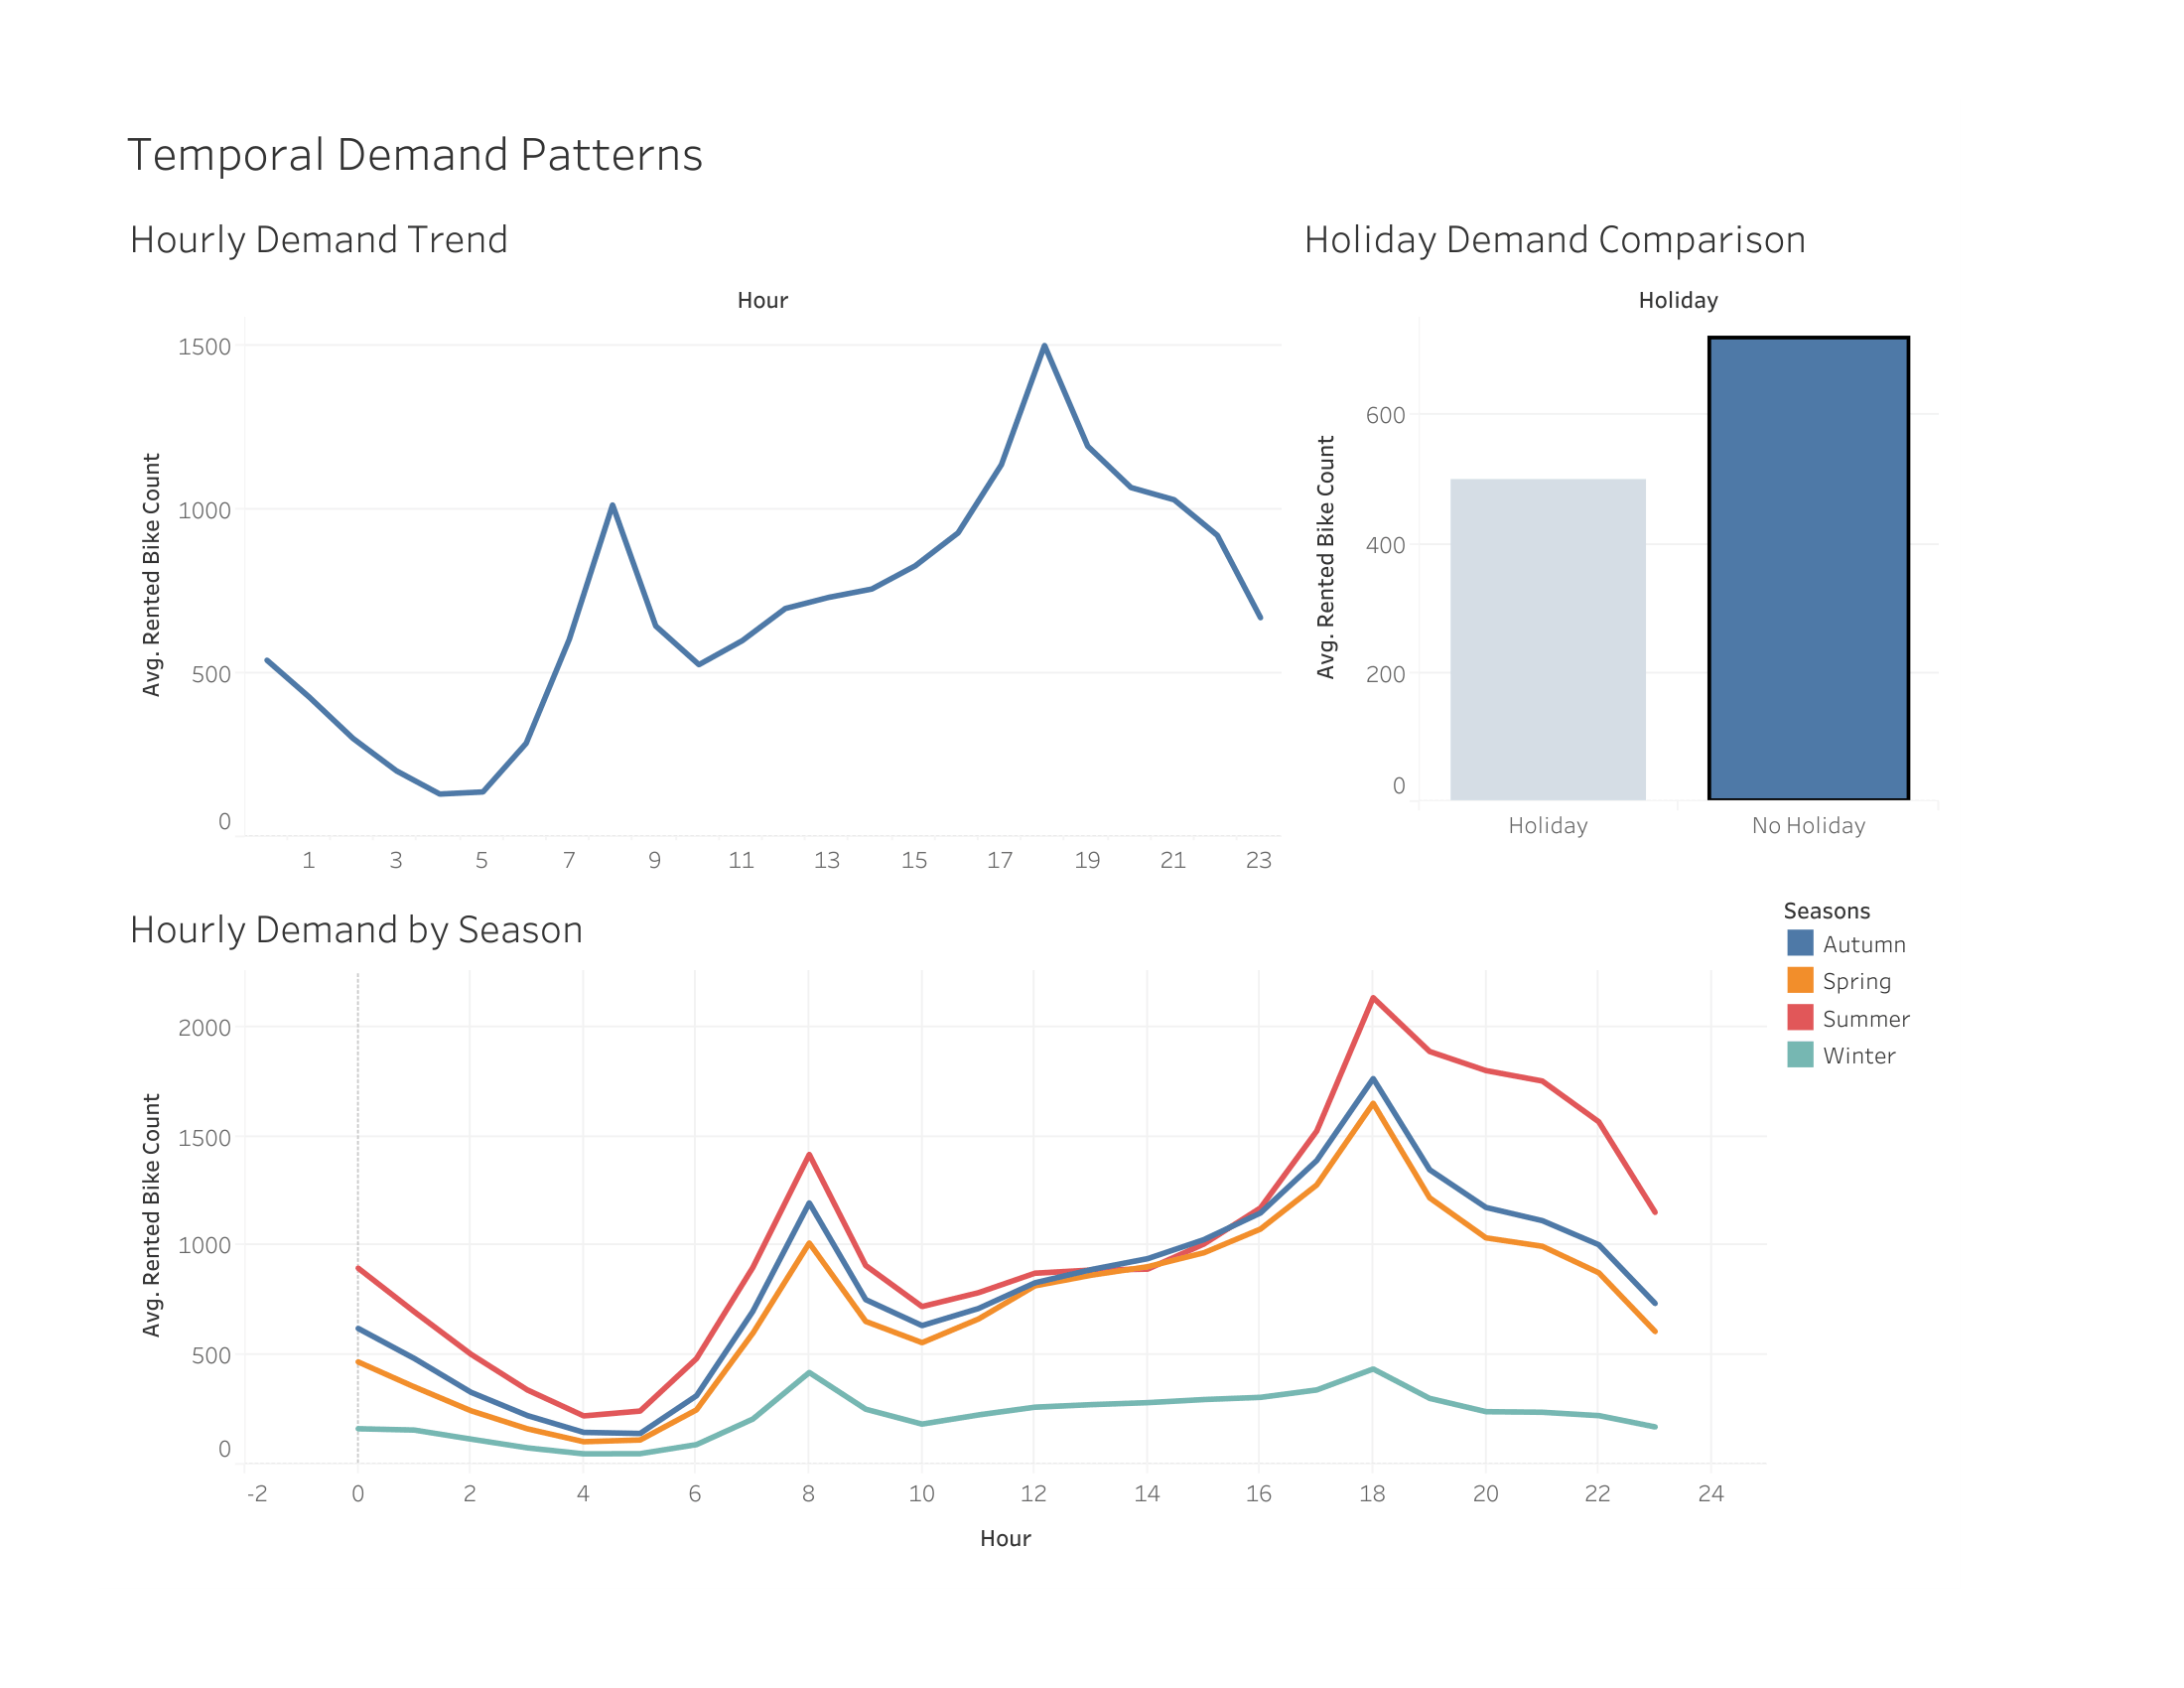

What the dashboard file says about the page in this screenshot:
{"tool":"tableau","page":{"name":"Temporal Demand Patterns","canvas":[1000,800],"ordinal":1},"visuals":[{"type":"title","box":[8,8,984,42]},{"type":"worksheet","title":"Hourly Demand Trend","mark":"Line","rows":["Rented Bike Count"],"cols":["Hour"],"box":[8,50,631,371]},{"type":"worksheet","title":"Holiday Demand Comparison","mark":"Bar","rows":["Rented Bike Count"],"cols":["Holiday"],"box":[639,50,353,371]},{"type":"worksheet","title":"Hourly Demand by Season","mark":"Line","rows":["Rented Bike Count"],"cols":["Hour"],"box":[8,421,892,371]},{"type":"legend","title":"Hourly Demand by Season","param":"[federated.12ww3qo0isxxog0zsqagf0s2lzdp].[none:Seasons:nk]","box":[900,421,92,371]}]}

Visuals, with their boxes on the page's 1000x800 design canvas (x1, y1, x2, y2). These are canvas units, not pixel positions in the 2184x1688 screenshot, which may show the page scaled, cropped or inside an application window:
title: BBox(8, 8, 992, 50)
"Hourly Demand Trend" worksheet (Line marks): BBox(8, 50, 639, 421)
"Holiday Demand Comparison" worksheet (Bar marks): BBox(639, 50, 992, 421)
"Hourly Demand by Season" worksheet (Line marks): BBox(8, 421, 900, 792)
"Hourly Demand by Season" legend: BBox(900, 421, 992, 792)
